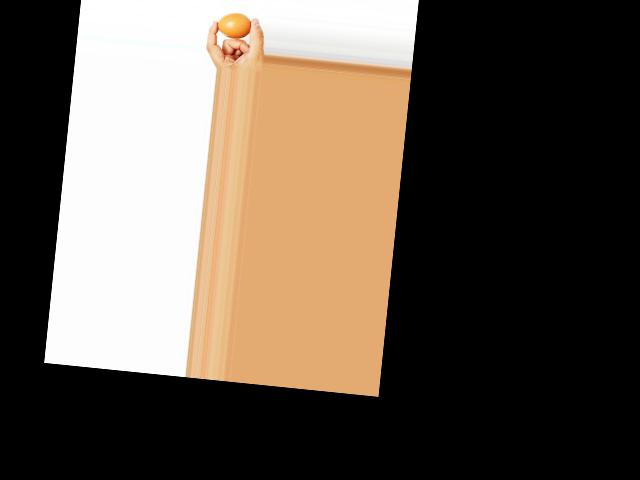egg: (216, 10, 252, 40)
